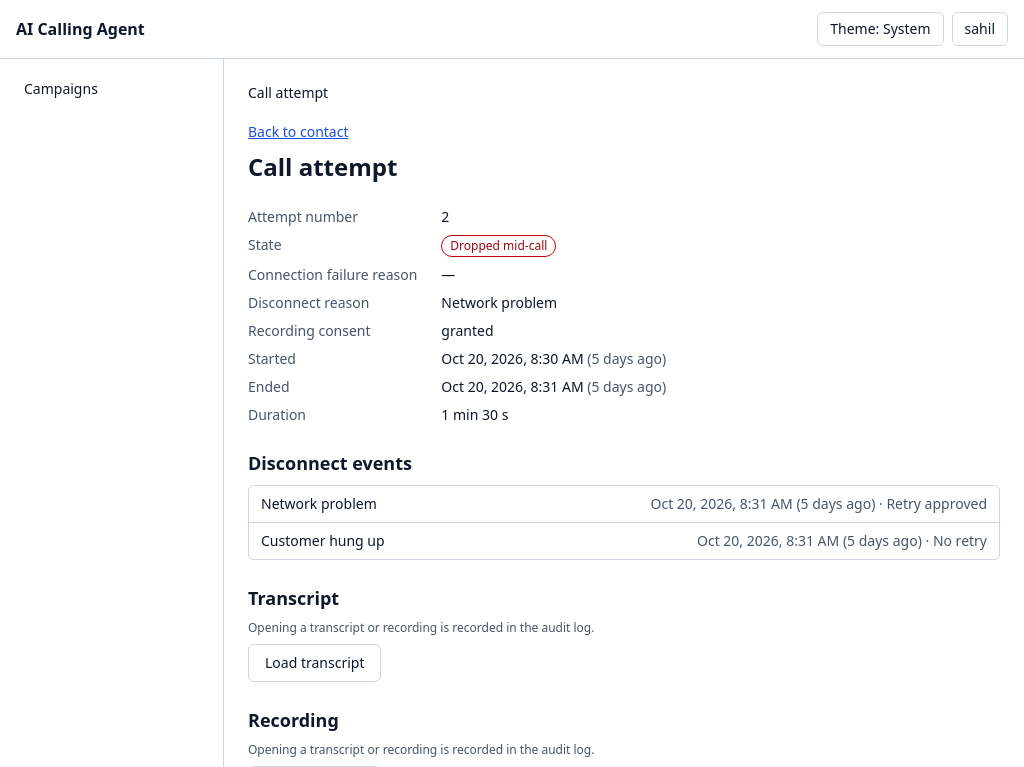
transcript › is not requested until the button is clicked, and the audit notice is shown first
Check: the text "Opening a transcript or recording is recorded in the audit log." is shown 2 times, box [248,619,594,636]; [248,741,594,758]
Click the button "Load transcript" at (315, 663), box [248,644,382,682]
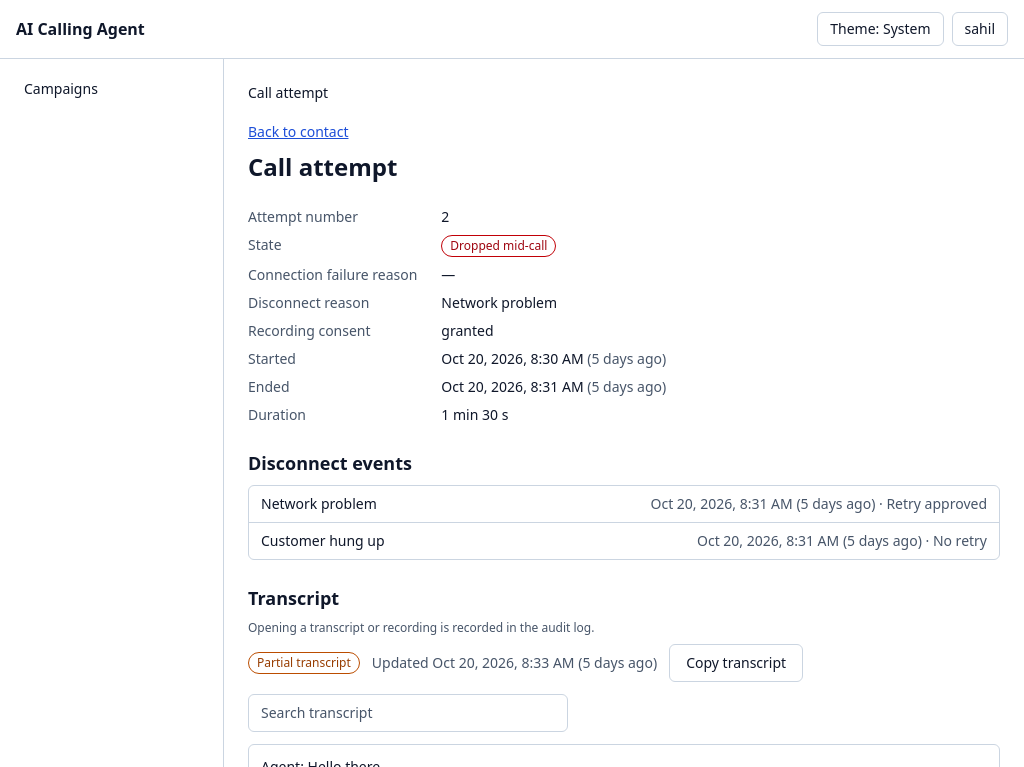
Check: the text "Partial transcript" is shown, box [248,652,360,674]
